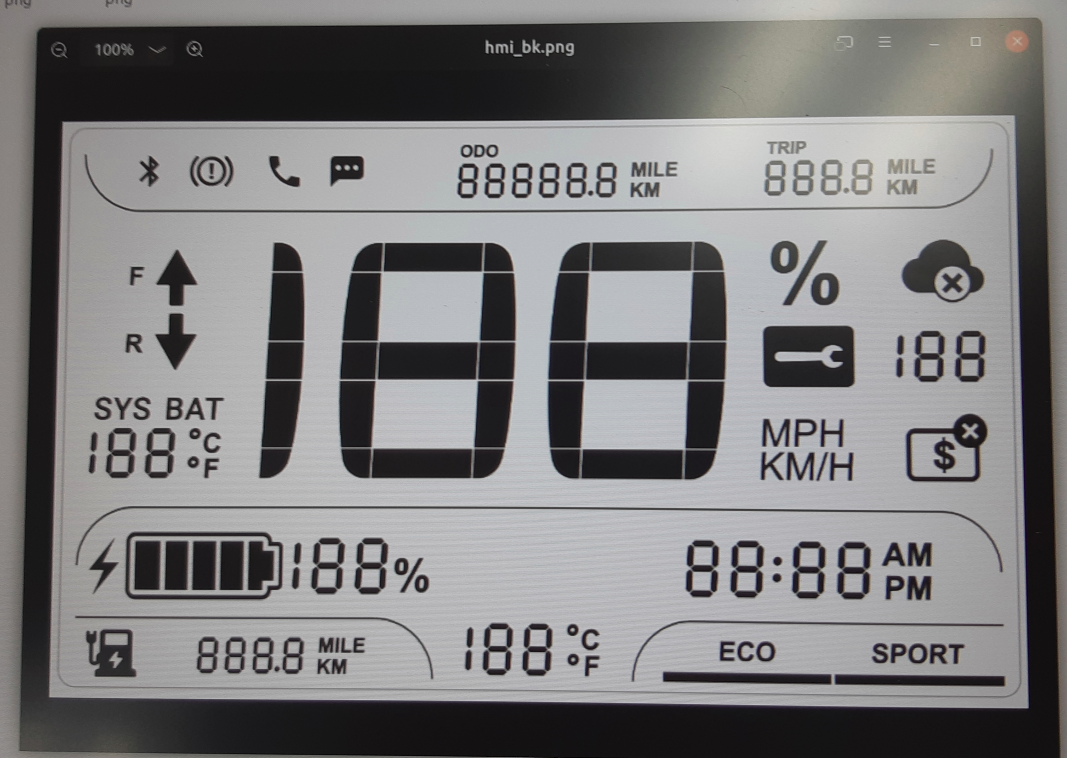bluetooth_on: (133, 151, 166, 190)
braking_on: (184, 151, 237, 191)
calling_on: (265, 152, 305, 190)
connection_lost: (898, 235, 988, 307)
error_code: (759, 321, 859, 391)
low_battery: (81, 625, 141, 680)
sms_on: (326, 152, 369, 189)
vin_id: (903, 411, 992, 484)
